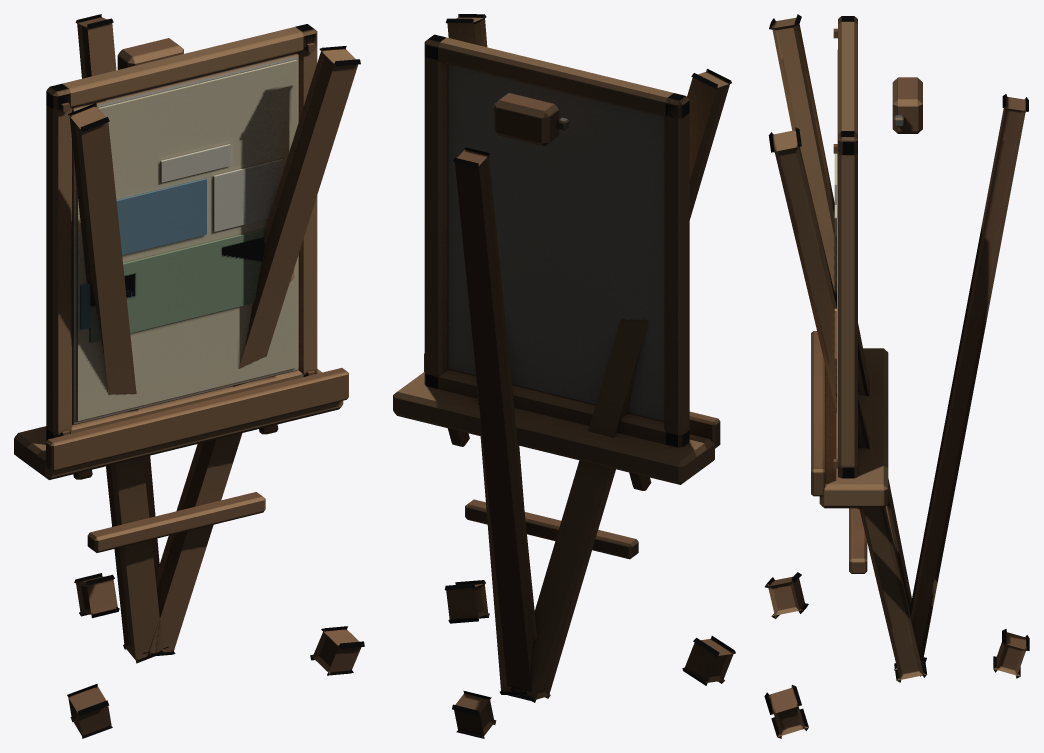
File: 0-20261016-1900-ev016-r03-art-easel_baked.glb
The picture shows the model from 3 angles, left to right: view 1: azimuth 30°, elevation 25°; view 2: azimuth 150°, elevation 25°; view 3: azimuth 270°, elevation 25°; orthographic projection. The views are drawn at different scales.
Parts seen in each view (by area): view 1: SW_Art_Easel; view 2: SW_Art_Easel; view 3: SW_Art_Easel.
Boxes of the visible parts, x1,y1,x2,y2 form: SW_Art_Easel: [14, 14, 364, 738]; SW_Art_Easel: [393, 14, 735, 738]; SW_Art_Easel: [764, 14, 1029, 738].
Bounding box in the file's own units: 0.82 × 1.64 × 0.6556.
Materials: 1 (1 with a texture image).
